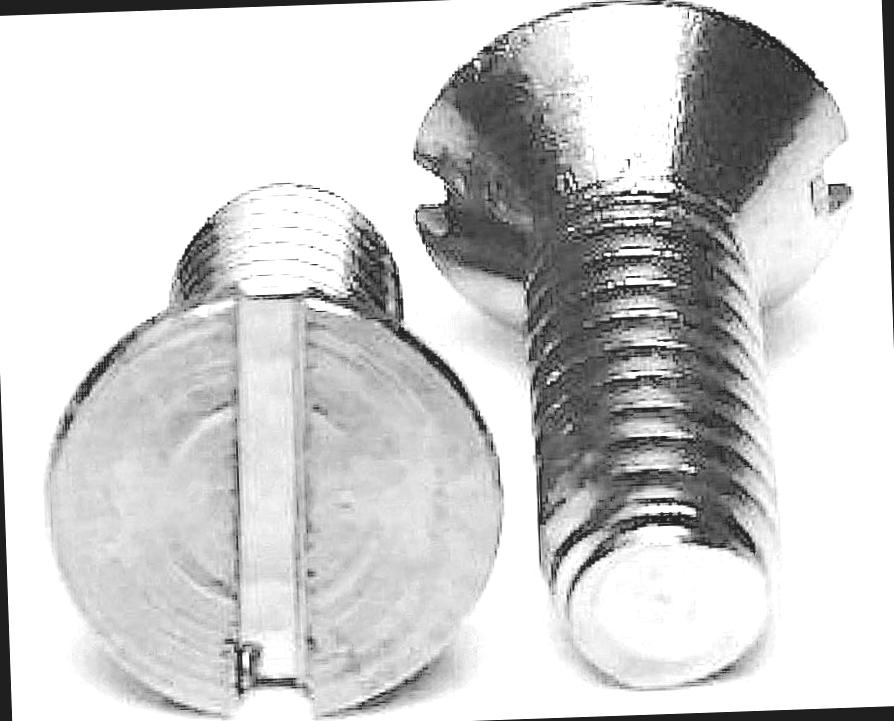screw: (35, 285, 512, 721)
